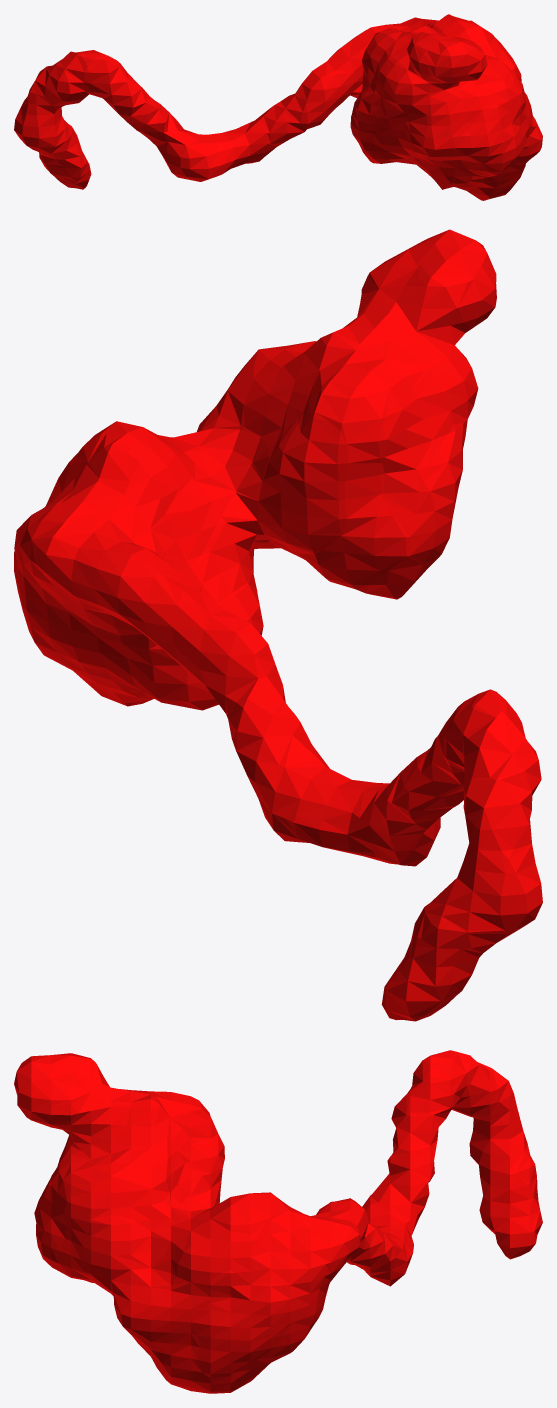
The model's file is rsmI_coarse.dae.
3 renders of one model, top to bottom at view 1: azimuth 30°, elevation 25°; view 2: azimuth 150°, elevation 25°; view 3: azimuth 270°, elevation 25°, orthographic. The views are drawn at different scales.
Parts seen in each view (by area): view 1: rsmI; view 2: rsmI; view 3: rsmI.
Boxes of the visible parts, x1,y1,x2,y2 form: rsmI: (14,14,542,200); rsmI: (14,229,542,1021); rsmI: (14,1050,542,1393).
Size of the model in its own units: 101 by 62.88 by 101.
